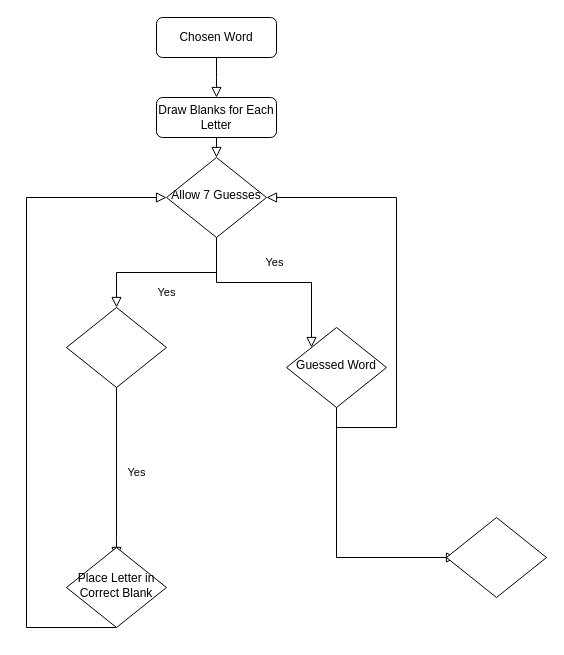
The diagram is 564 pixels wide and 655 high, and some of its shapes have lost their labels. The shapes that lost their labels are listed below. From the top down, each one's box as (x1, y1, x2, y2) in pixels, then its label:
(66, 306, 166, 388): Guessed Letter
(446, 516, 546, 598): End Game
